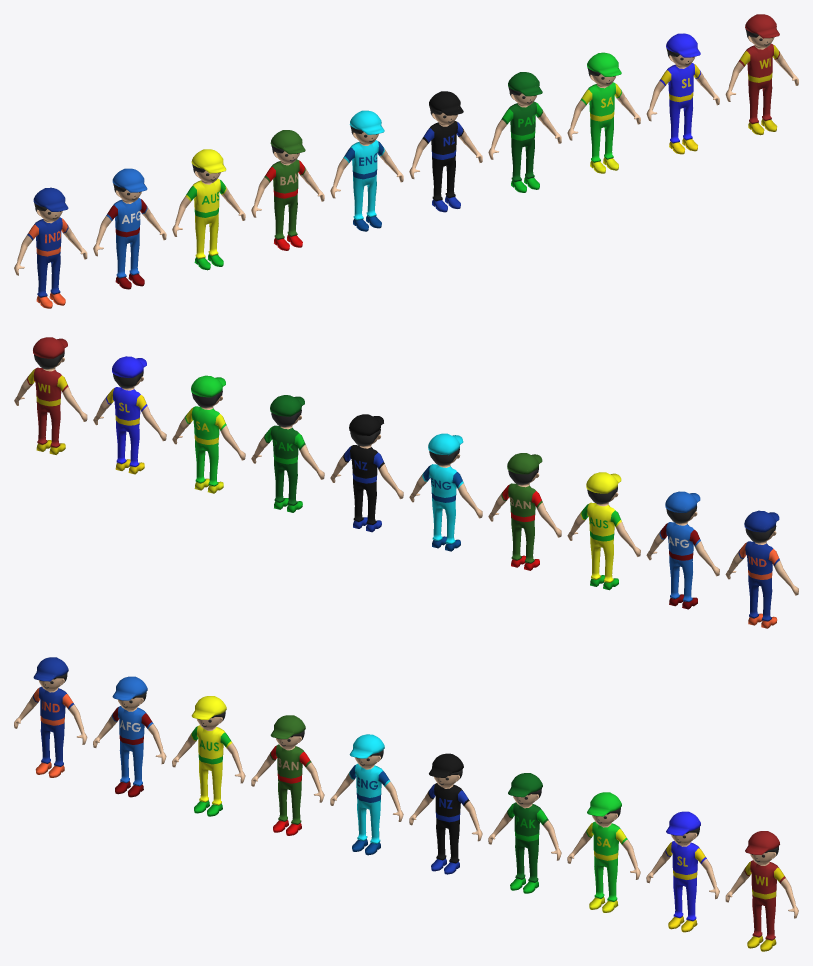
File: cricketers_pack_low_poly.glb
3 views of the same model, one above another, from view 1: azimuth 30°, elevation 25°; view 2: azimuth 150°, elevation 25°; view 3: azimuth 330°, elevation 25° (orthographic).
Visible parts, largest first — view 1: Afghanistan, India, England, Australia, Bangladesh, Newzeland, Sri Lanka, South Africa, Pakistan, West Indies; view 2: South Africa, Sri Lanka, West Indies, Pakistan, England, Afghanistan, India, Newzeland, Bangladesh, Australia; view 3: Newzeland, Pakistan, West Indies, South Africa, England, Sri Lanka, Bangladesh, India, Afghanistan, Australia.
Part boxes in pixels (left/top/right/bottom): Afghanistan: left=93, top=168, right=166, bottom=289; India: left=14, top=187, right=87, bottom=308; England: left=330, top=110, right=403, bottom=231; Australia: left=172, top=149, right=245, bottom=270; Bangladesh: left=251, top=130, right=324, bottom=250; Newzeland: left=409, top=91, right=482, bottom=212; Sri Lanka: left=646, top=33, right=719, bottom=154; South Africa: left=567, top=52, right=640, bottom=173; Pakistan: left=488, top=72, right=561, bottom=192; West Indies: left=725, top=14, right=798, bottom=135; South Africa: left=172, top=375, right=245, bottom=493; Sri Lanka: left=93, top=356, right=166, bottom=474; West Indies: left=14, top=337, right=87, bottom=454; Pakistan: left=251, top=395, right=324, bottom=512; England: left=409, top=433, right=482, bottom=551; Afghanistan: left=646, top=491, right=719, bottom=609; India: left=725, top=510, right=798, bottom=628; Newzeland: left=330, top=414, right=403, bottom=532; Bangladesh: left=488, top=453, right=561, bottom=570; Australia: left=567, top=472, right=640, bottom=590; Newzeland: left=409, top=753, right=482, bottom=874; Pakistan: left=488, top=773, right=561, bottom=893; West Indies: left=725, top=831, right=798, bottom=951; South Africa: left=567, top=792, right=640, bottom=912; England: left=330, top=734, right=403, bottom=855; Sri Lanka: left=646, top=811, right=719, bottom=932; Bangladesh: left=251, top=715, right=324, bottom=835; India: left=14, top=657, right=87, bottom=777; Afghanistan: left=93, top=676, right=166, bottom=797; Australia: left=172, top=696, right=245, bottom=816.
Bounding box in the file's own units: 4.33 × 0.5919 × 0.2086.
Materials: 10 (10 with a texture image).
